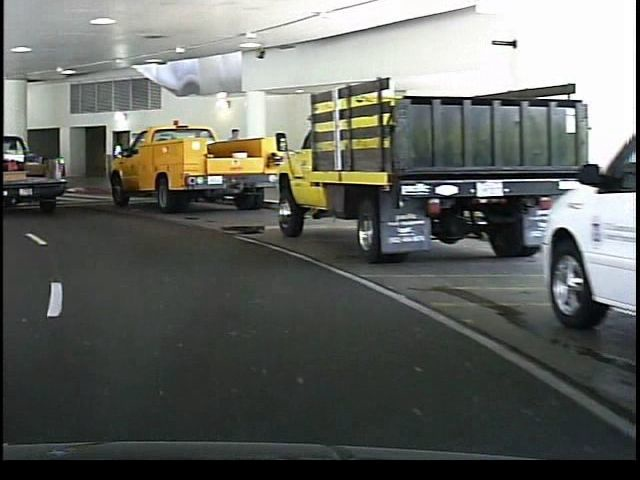person: (221, 123, 244, 197)
